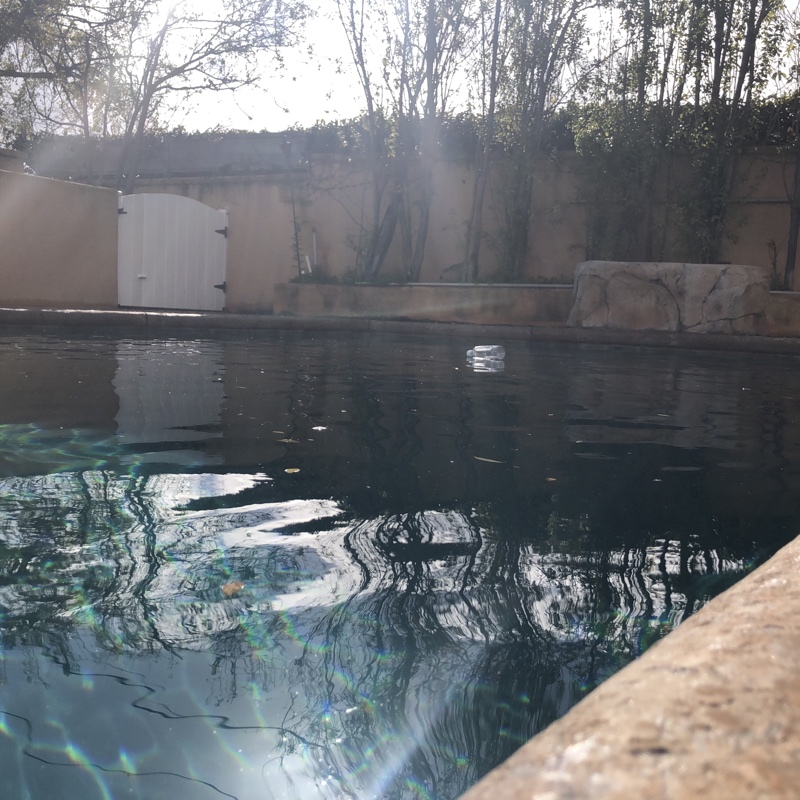Plastic Bottle: (463, 344, 504, 359)
